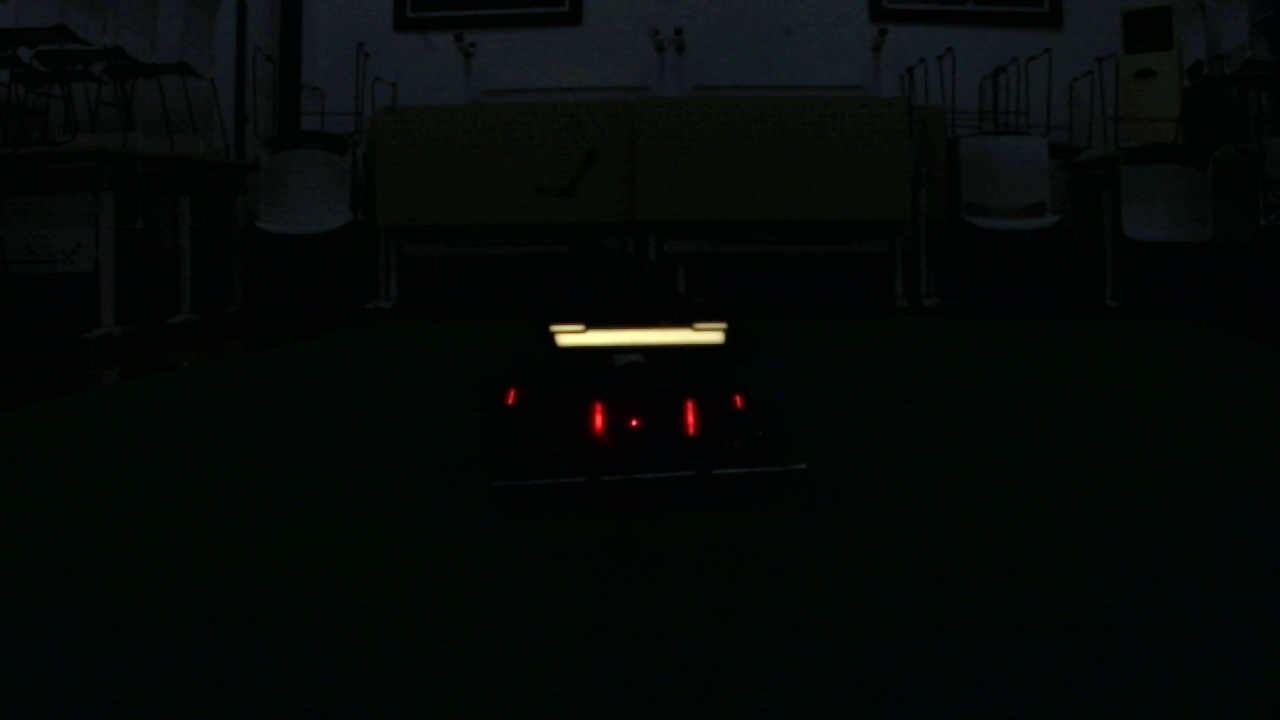lamp: (682, 401, 697, 443), (591, 396, 605, 438)
pair1: (592, 403, 699, 436)
